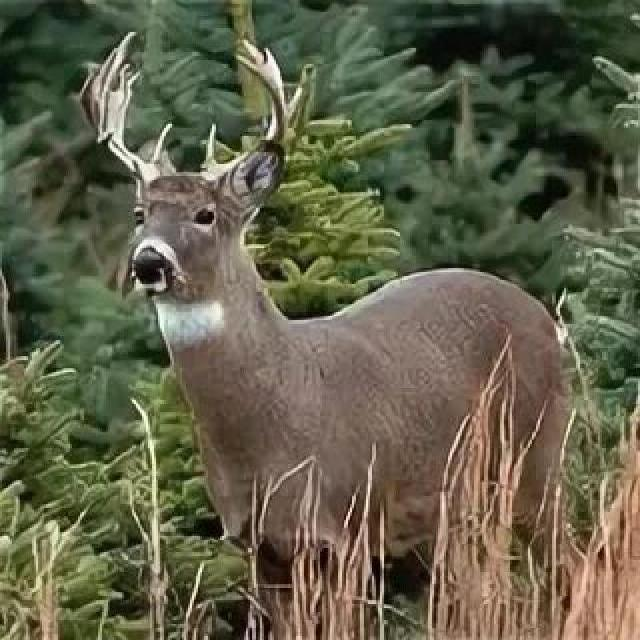deer: (72, 22, 609, 581)
